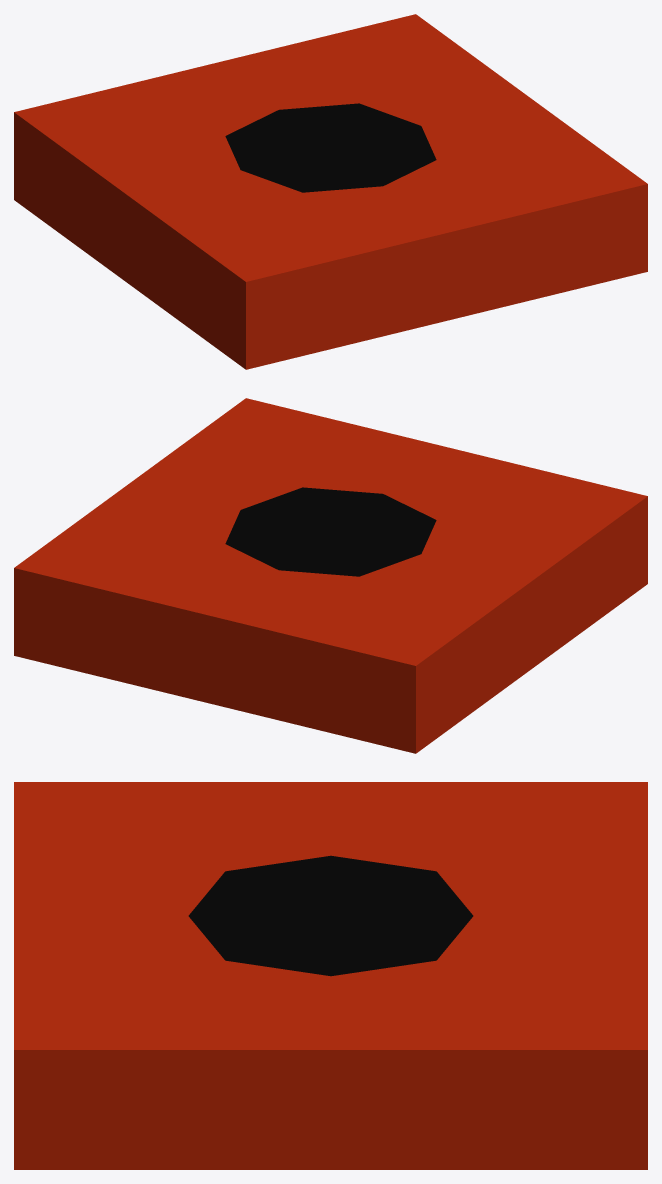
The picture shows the model from 3 angles, top to bottom: view 1: azimuth 30°, elevation 25°; view 2: azimuth 150°, elevation 25°; view 3: azimuth 270°, elevation 25°; orthographic projection. The views are drawn at different scales.
Visible parts, largest first — view 1: Box.002; view 2: Box.002; view 3: Box.002.
Boxes of the visible parts, x1=… form: Box.002: x1=14, y1=14, x2=647, y2=369; Box.002: x1=14, y1=398, x2=647, y2=753; Box.002: x1=14, y1=782, x2=647, y2=1169.
Bounding box in the file's own units: 52.72 × 11.01 × 52.72.
